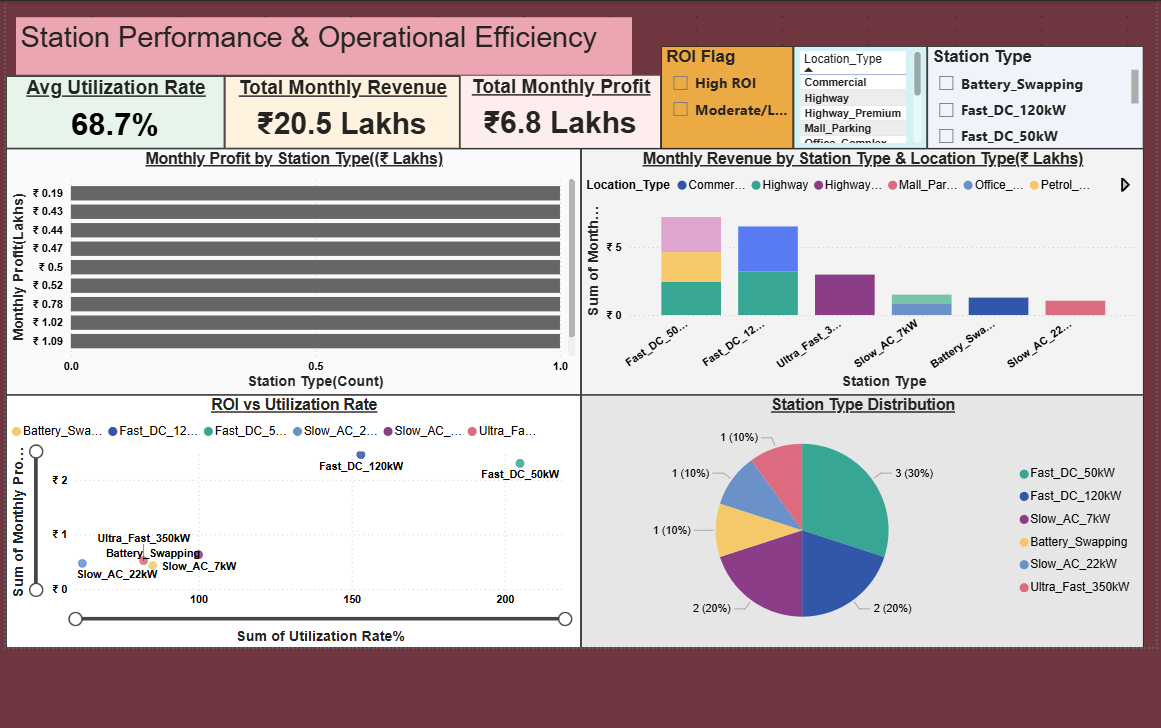

This screenshot's page, from the dashboard's own definition file:
{"tool":"powerbi","page":{"name":"Station Performance & Operational Efficiency","canvas":[1280,720],"ordinal":2},"visuals":[{"type":"scatterChart","title":"ROI vs Utilization Rate","fields":{"X":["Sum(StationTbl.Utilization_Rate_Percent)"],"Y":["Sum(StationTbl.Monthly_Profit_Lakhs)"],"Series":["StationTbl.Station_Type"]},"box":[0,438.3,640,282.4],"z":0},{"type":"columnChart","title":"Monthly Revenue by Station Type & Location Type(₹ Lakhs)","fields":{"Category":["StationTbl.Station_Type"],"Y":["Sum(StationTbl.Monthly_Revenue_Lakhs)"],"Series":["StationTbl.Location_Type"]},"box":[640,164.2,626.1,274.1],"z":1000},{"type":"barChart","title":"Monthly Profit by Station Type((₹ Lakhs)","fields":{"Y":["CountNonNull(StationTbl.Station_Type)"],"Category":["StationTbl.Monthly_Profit_Lakhs"]},"box":[0,164.2,640,274.1],"z":2000},{"type":"card","title":"Avg Utilization Rate","fields":{"Values":["StationTbl.AvgUtilizationFormatted"]},"box":[0,83.5,243.5,80.7],"z":3000},{"type":"card","title":"Total Monthly Revenue","fields":{"Values":["StationTbl.TotalMonthlyRevenueFormatted"]},"box":[243.5,83.5,261.6,80.7],"z":4000},{"type":"card","title":"Total Monthly Profit","fields":{"Values":["StationTbl.TotalMonthlyProfitFormatted"]},"box":[505,82.1,224,82.1],"z":5000},{"type":"slicer","title":"Station Type","fields":{"Values":["StationTbl.Station_Type"]},"box":[1025.4,50.1,240.7,114.1],"z":6000},{"type":"tableEx","fields":{"Values":["StationTbl.Location_Type"]},"box":[876.5,50.1,148.9,114.1],"z":7000},{"type":"slicer","title":"ROI Flag","fields":{"Values":["StationTbl.High_ROI_Flag"]},"box":[729,50.1,147.5,114.1],"z":8000},{"type":"pieChart","title":"Station Type Distribution","fields":{"Y":["CountNonNull(StationTbl.Station_Type)"],"Category":["StationTbl.Station_Type"]},"box":[640,438.3,626.1,282.4],"z":9000},{"type":"textbox","box":[11.1,18.1,685.9,64],"z":10000}]}

Visuals, with their boxes in screenshot pixels (x1, y1, x2, y2):
"ROI vs Utilization Rate" scatterChart: <region>6, 392, 579, 645</region>
"Monthly Revenue by Station Type & Location Type(₹ Lakhs)" columnChart: <region>579, 147, 1139, 392</region>
"Monthly Profit by Station Type((₹ Lakhs)" barChart: <region>6, 147, 579, 392</region>
"Avg Utilization Rate" card: <region>6, 75, 224, 147</region>
"Total Monthly Revenue" card: <region>224, 75, 458, 147</region>
"Total Monthly Profit" card: <region>458, 73, 658, 147</region>
"Station Type" slicer: <region>923, 45, 1139, 147</region>
tableEx - StationTbl.Location_Type: <region>790, 45, 923, 147</region>
"ROI Flag" slicer: <region>658, 45, 790, 147</region>
"Station Type Distribution" pieChart: <region>579, 392, 1139, 645</region>
textbox: <region>16, 16, 630, 73</region>
